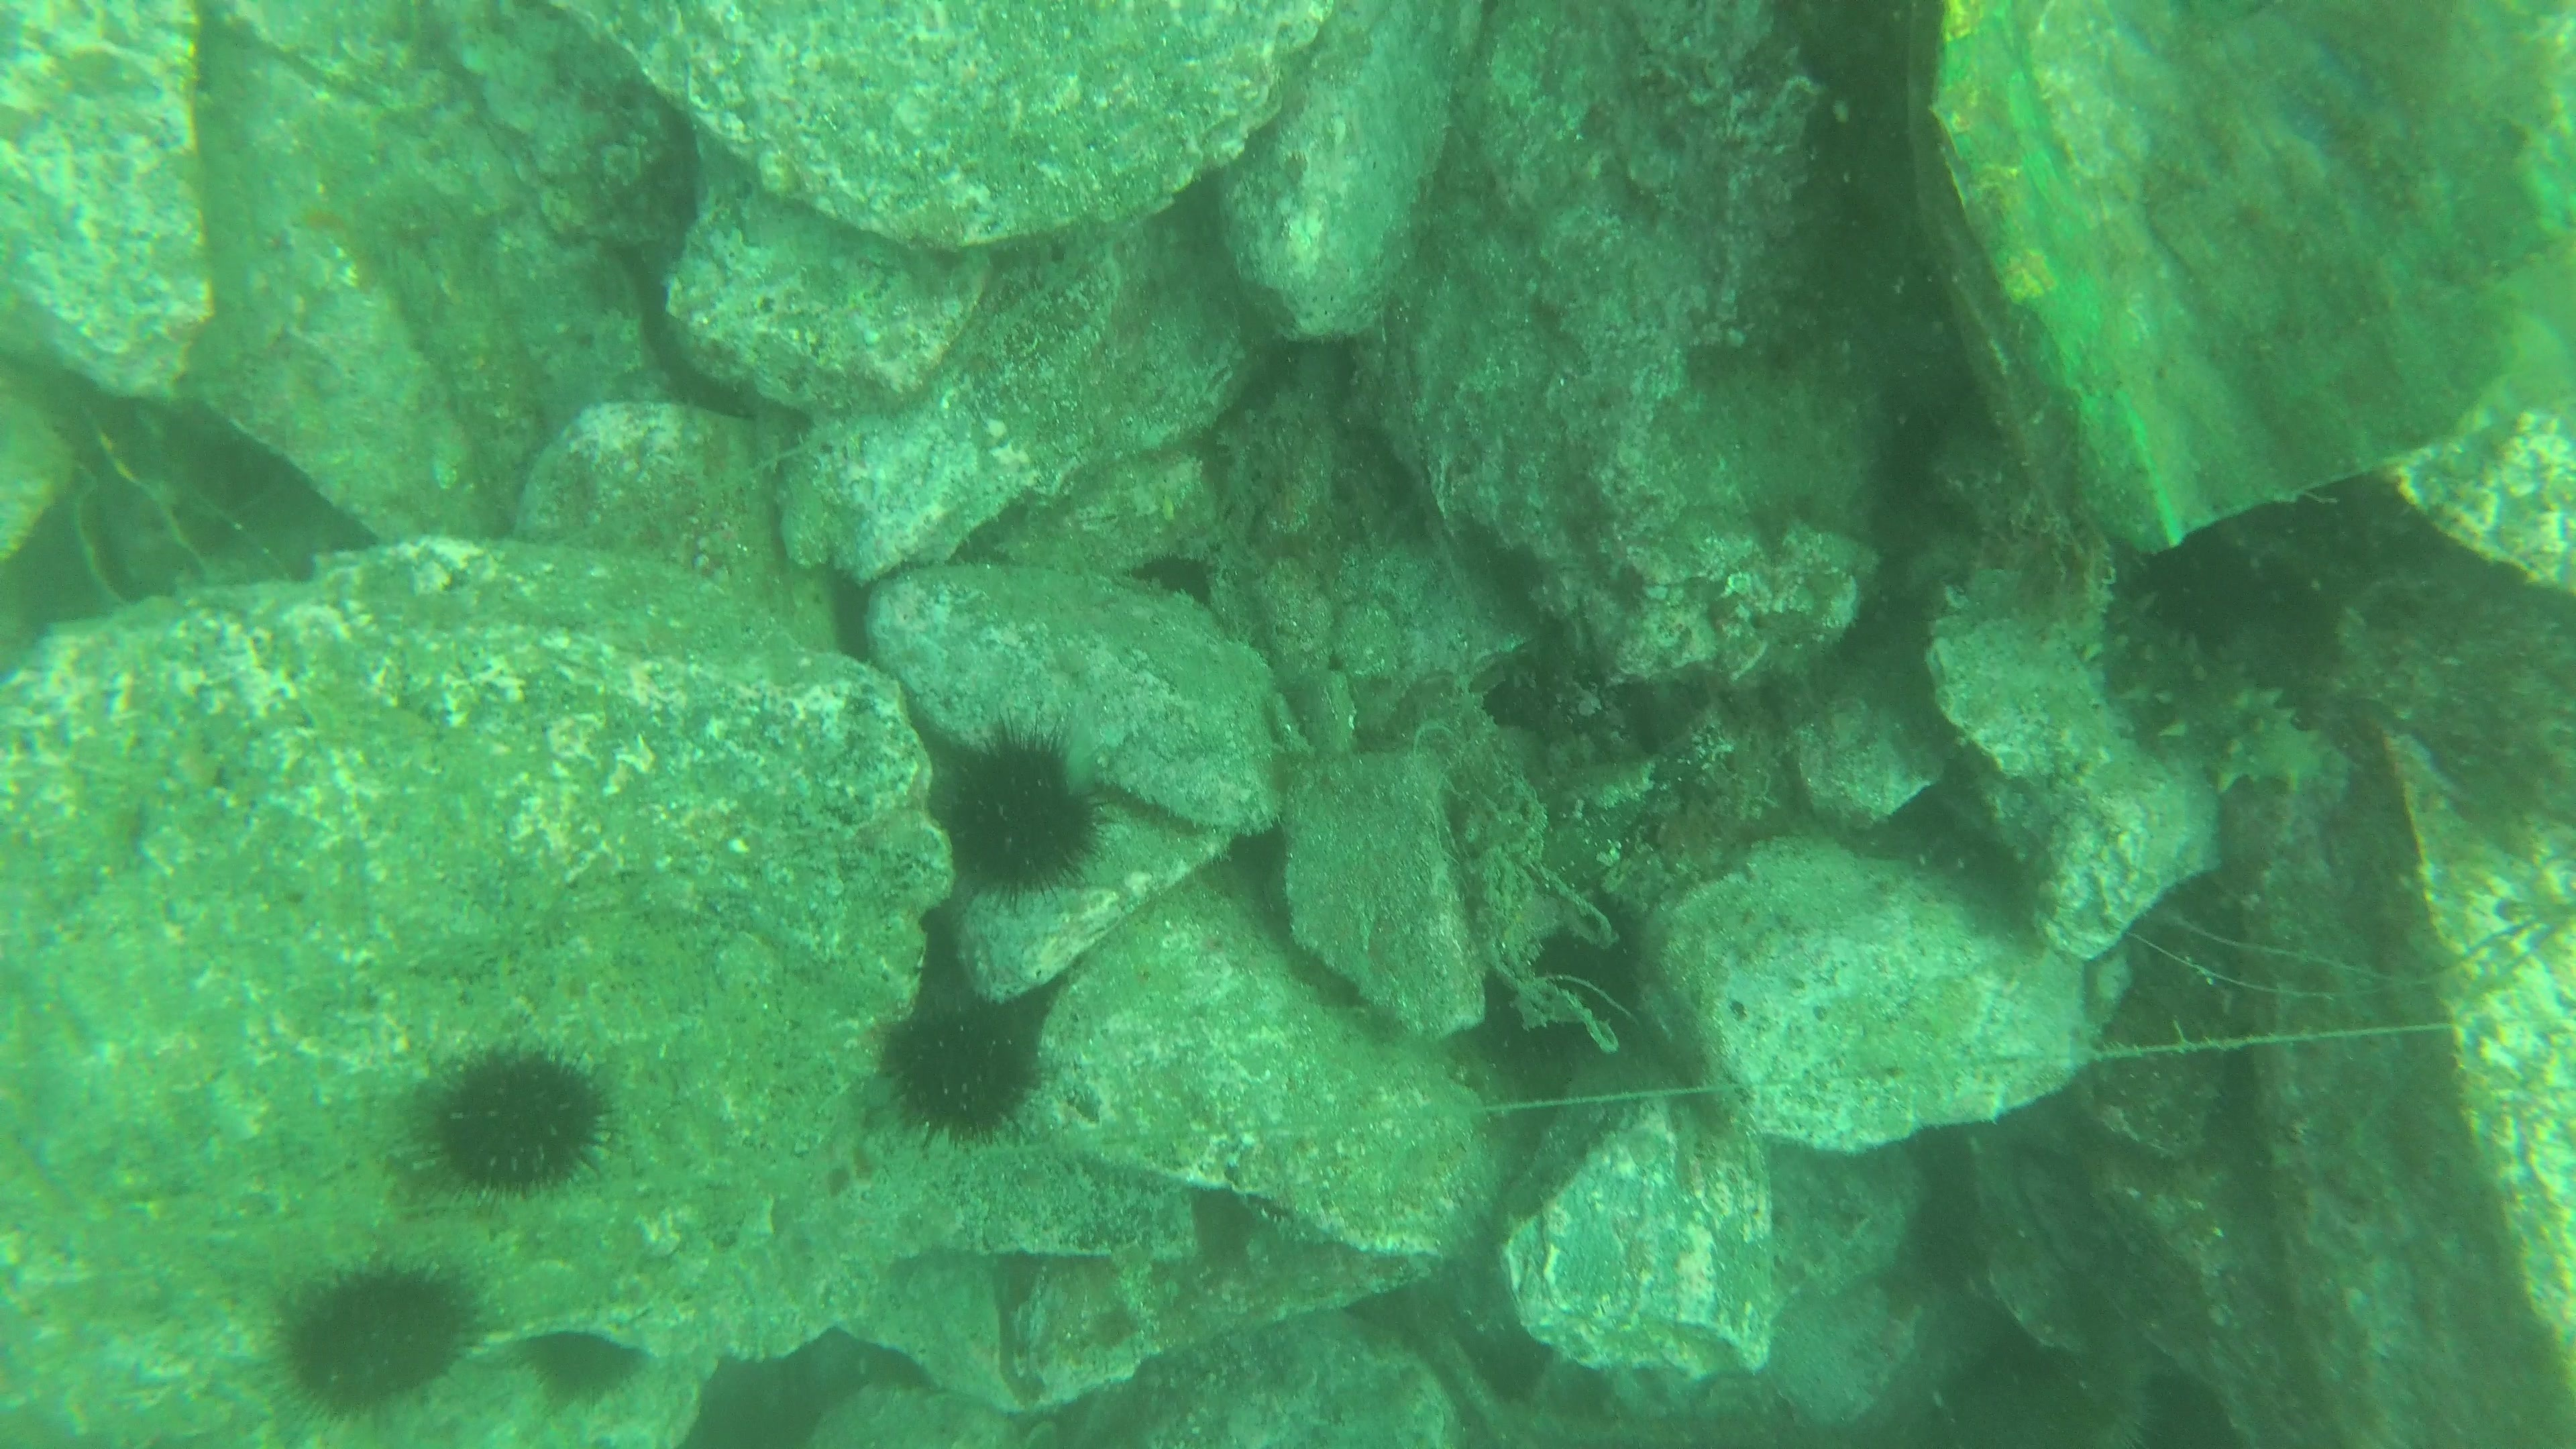echinus: (264, 1253, 483, 1422), (410, 1037, 617, 1201), (931, 722, 1111, 901), (872, 991, 1047, 1146), (2123, 522, 2277, 649), (515, 1323, 649, 1415), (1127, 540, 1224, 610)
holothurian: (2089, 586, 2351, 807)
